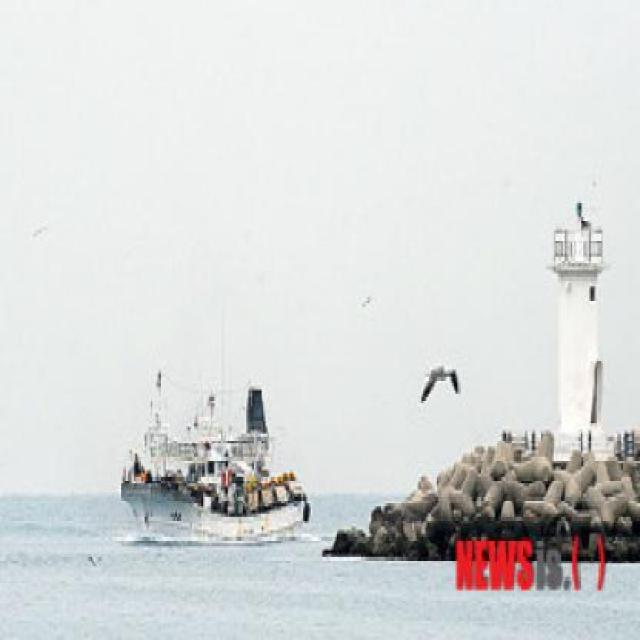fish-b: (99, 350, 317, 558)
